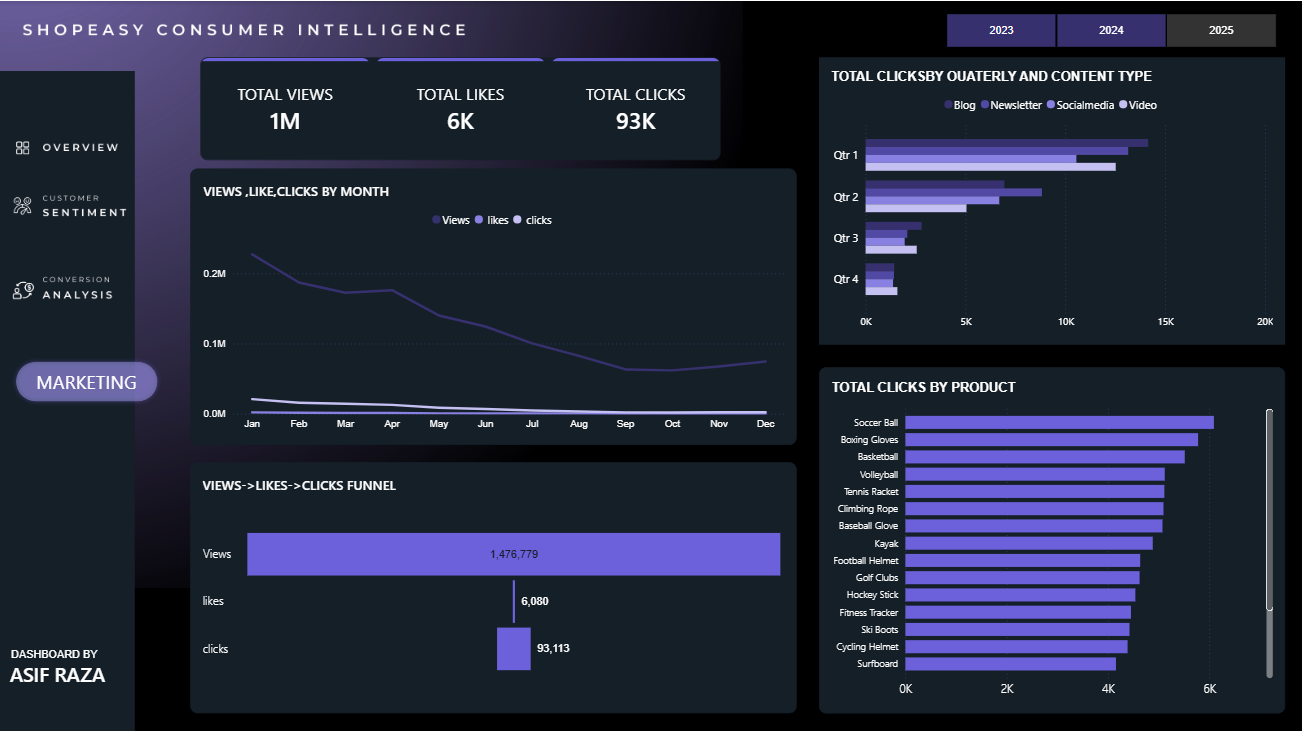

The page's visual inventory and layout, read from the dashboard file:
{"tool":"powerbi","page":{"name":"Marketing Performance","canvas":[1600,900],"ordinal":3},"visuals":[{"type":"shape","box":[234.7,566,743.9,308.3],"z":0},{"type":"cardVisual","fields":{"Data":["Sum(engagement_data_cleaned.Views)","Sum(engagement_data_cleaned.likes)","Sum(engagement_data_cleaned.clicks)"]},"box":[246.7,68.3,638.3,126.7],"z":1000},{"type":"lineChart","title":"VIEWS ,LIKE,CLICKS BY MONTH","fields":{"Y":["Sum(engagement_data_cleaned.Views)","Sum(engagement_data_cleaned.likes)","Sum(engagement_data_cleaned.clicks)"],"Category":["Calendar.MonthNameShort"]},"box":[234.7,205.5,743.9,339],"z":2000},{"type":"funnel","title":"VIEWS->LIKES->CLICKS FUNNEL","fields":{"Y":["Sum(engagement_data_cleaned.Views)","Sum(engagement_data_cleaned.likes)","Sum(engagement_data_cleaned.clicks)"]},"box":[234.7,567.5,743.9,306.8],"z":3000},{"type":"barChart","title":"TOTAL CLICKS BY PRODUCT","fields":{"Y":["Sum(engagement_data_cleaned.clicks)"],"Category":["products.ProductName"]},"box":[1006.1,449.4,572.1,424.8],"z":4000},{"type":"clusteredBarChart","title":"TOTAL CLICKSBY OUATERLY AND CONTENT TYPE ","fields":{"Category":["Calendar.Date.Variation.Date Hierarchy.Quarter"],"Y":["Sum(engagement_data_cleaned.clicks)"],"Series":["engagement_data_cleaned.ContentType"]},"box":[1006.1,69,572.1,352.8],"z":5000},{"type":"shape","box":[0,416.7,158.3,150],"z":6000},{"type":"shape","box":[0,421.7,215,90],"z":7000},{"type":"pageNavigator","box":[0,205,183.3,100],"z":8000},{"type":"pageNavigator","box":[0,305,183.3,100],"z":9000},{"type":"pageNavigator","box":[0,131.7,183.3,100],"z":10000},{"type":"slicer","fields":{"Values":["Calendar.Date.Variation.Date Hierarchy.Year"]},"box":[1142.6,13.1,442.6,44.3],"z":11000},{"type":"textbox","box":[0,794.5,158,66],"z":12000}]}

Visuals, with their boxes in screenshot pixels (x1, y1, x2, y2), scaled from the page's 1600x900 canvas onto the 1302x731 screenshot:
shape: [left=191, top=460, right=796, bottom=710]
cardVisual - Sum(engagement_data_cleaned.Views) x Sum(engagement_data_cleaned.likes): [left=201, top=55, right=720, bottom=158]
"VIEWS ,LIKE,CLICKS BY MONTH" lineChart: [left=191, top=167, right=796, bottom=442]
"VIEWS->LIKES->CLICKS FUNNEL" funnel: [left=191, top=461, right=796, bottom=710]
"TOTAL CLICKS BY PRODUCT" barChart: [left=819, top=365, right=1284, bottom=710]
"TOTAL CLICKSBY OUATERLY AND CONTENT TYPE " clusteredBarChart: [left=819, top=56, right=1284, bottom=343]
shape: [left=0, top=338, right=129, bottom=460]
shape: [left=0, top=343, right=175, bottom=416]
pageNavigator: [left=0, top=167, right=149, bottom=248]
pageNavigator: [left=0, top=248, right=149, bottom=329]
pageNavigator: [left=0, top=107, right=149, bottom=188]
slicer - Calendar.Date.Variation.Date Hierarchy.Year: [left=930, top=11, right=1290, bottom=47]
textbox: [left=0, top=645, right=129, bottom=699]
